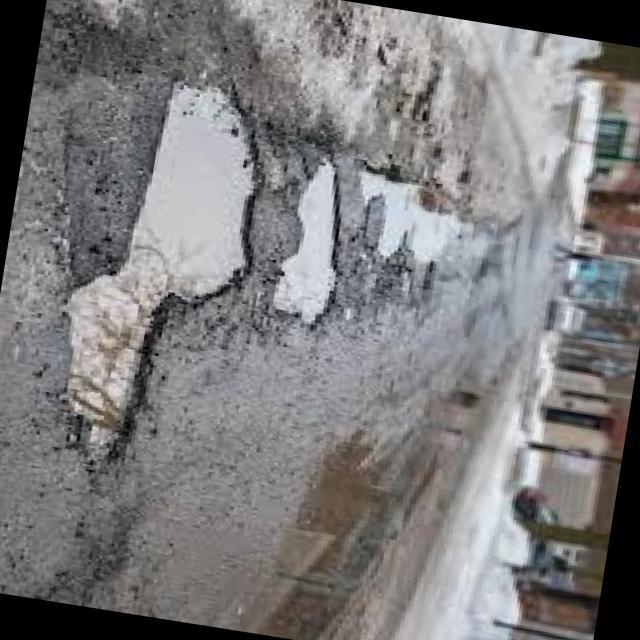pothole: (47, 67, 266, 460), (266, 148, 374, 350), (354, 161, 482, 271)
